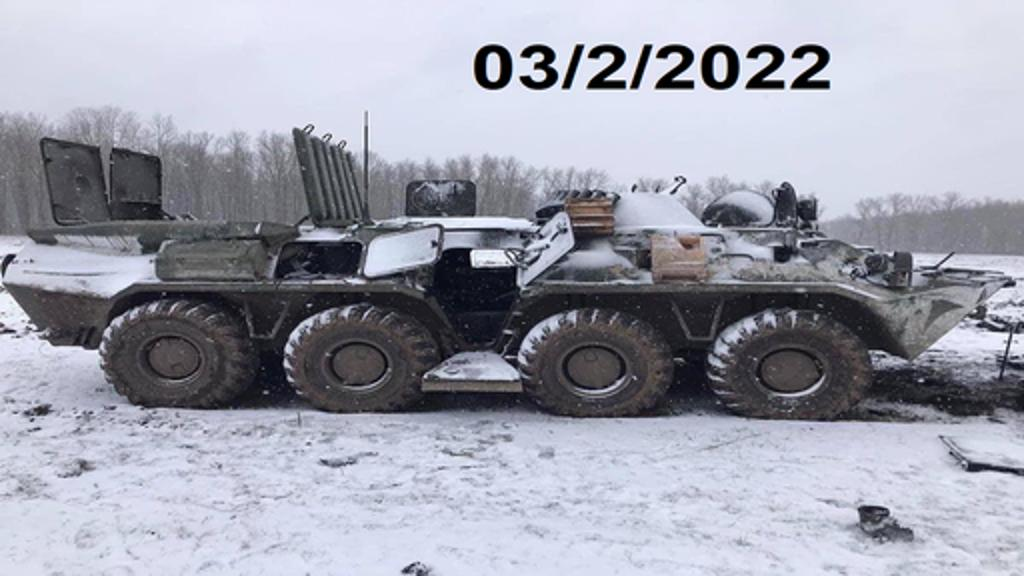APC-IFV: (0, 106, 1014, 434)
